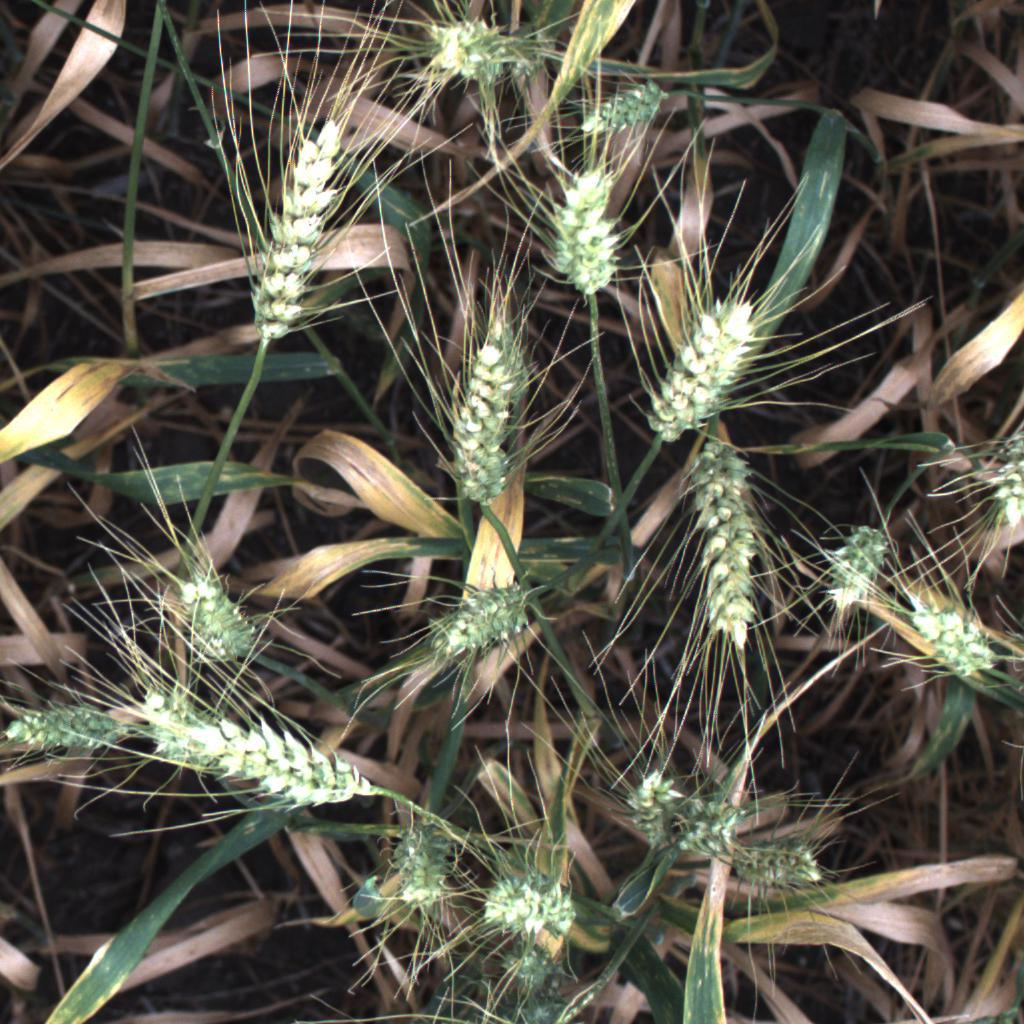0-0: (660, 417, 783, 665), (636, 269, 789, 453), (244, 90, 353, 348), (145, 698, 385, 810), (431, 299, 540, 524), (539, 149, 632, 304), (418, 573, 546, 671), (168, 564, 277, 671), (811, 508, 904, 628), (906, 583, 1009, 690), (0, 688, 134, 764), (405, 12, 537, 86), (364, 816, 458, 913), (471, 869, 586, 945), (972, 404, 1024, 547), (569, 76, 686, 138), (729, 837, 835, 900), (611, 765, 687, 845), (672, 797, 752, 869)
